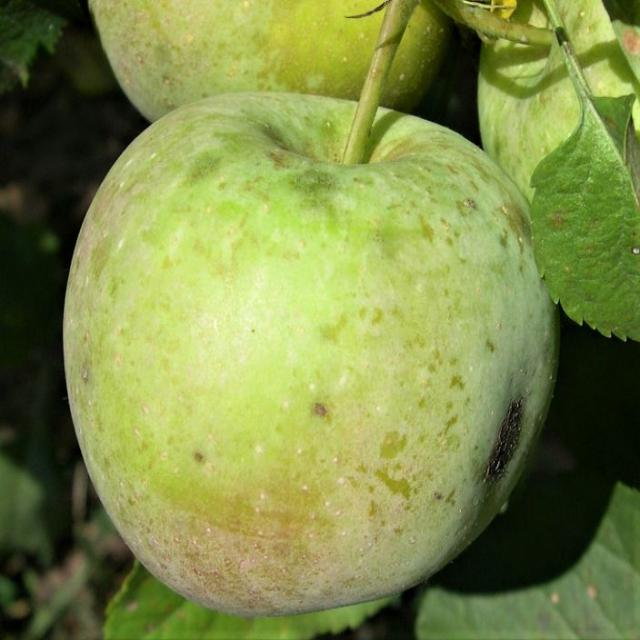Rotten Apple: (47, 72, 575, 632)
